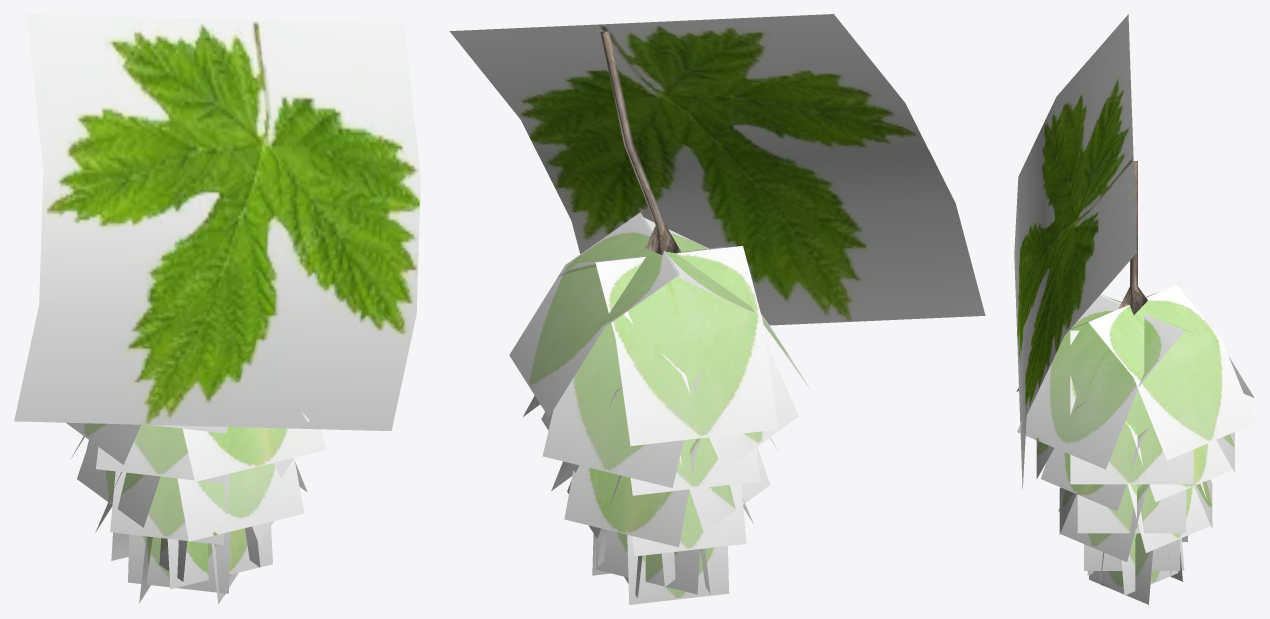
File: KM_HOPBRANCH.glb
3 renders of one model, left to right at view 1: azimuth 30°, elevation 25°; view 2: azimuth 150°, elevation 25°; view 3: azimuth 270°, elevation 25°, orthographic. The views are drawn at different scales.
Visible parts, largest first — view 1: Mesh; view 2: Mesh; view 3: Mesh.
Boxes of the visible parts, left/top/right/bottom form: Mesh: left=14, top=14, right=420, bottom=604; Mesh: left=449, top=14, right=985, bottom=604; Mesh: left=1014, top=14, right=1255, bottom=604.
Bounding box in the file's own units: 0.2999 × 0.378 × 0.1657.
1 material, 1 textured.
